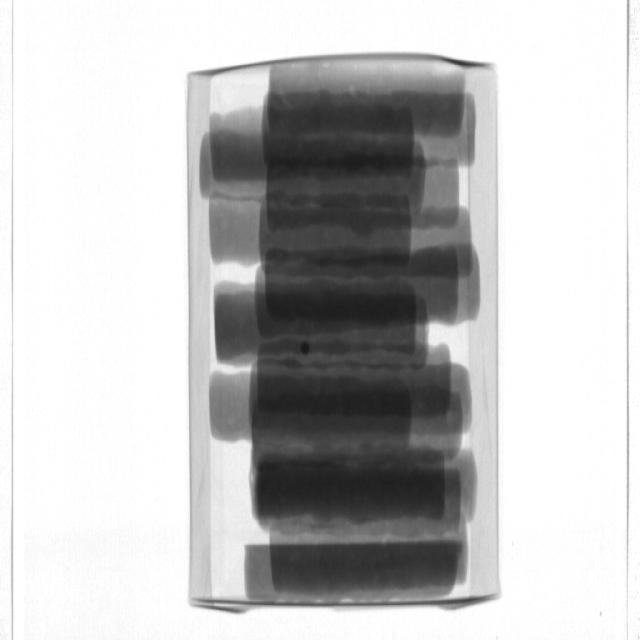ym: (301, 342, 312, 356)
